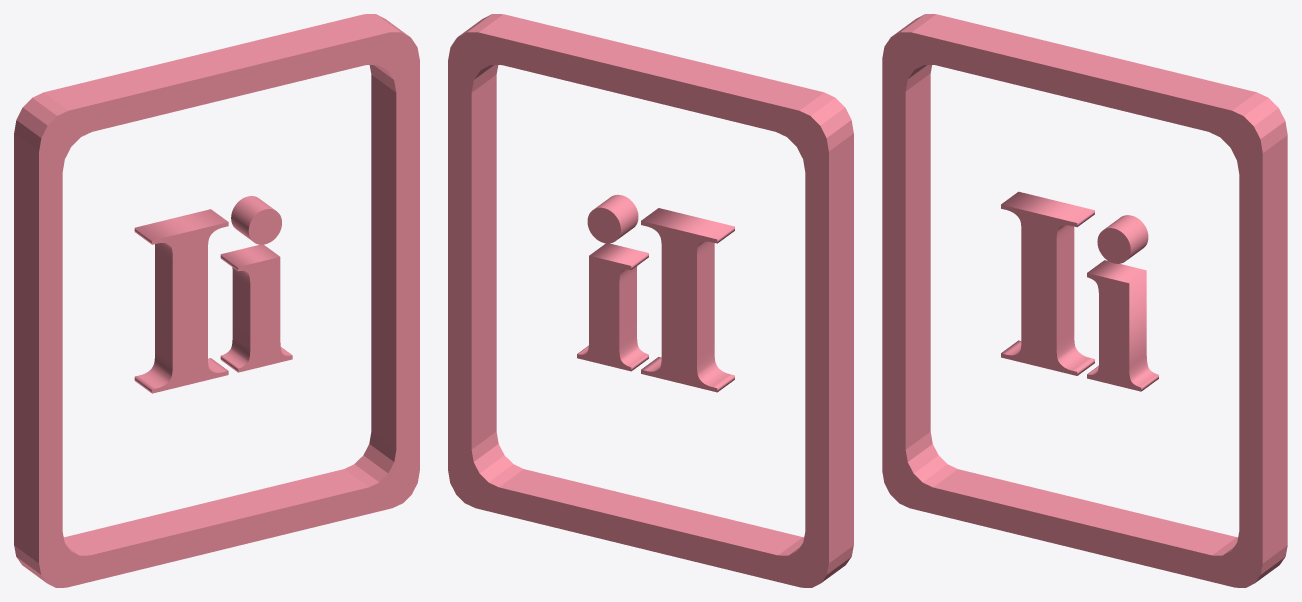
File: Letter_I.gltf
3 views of the same model, side by side, from view 1: azimuth 30°, elevation 25°; view 2: azimuth 150°, elevation 25°; view 3: azimuth 330°, elevation 25° (orthographic).
Visible parts, largest first — view 1: Letters.010; view 2: Letters.010; view 3: Letters.010.
Boxes of the visible parts, x1,y1,x2,y2 form: Letters.010: (14, 14, 419, 587); Letters.010: (448, 14, 853, 587); Letters.010: (882, 14, 1287, 587).
Bounding box in the file's own units: 1.25 × 1.49 × 0.1418.
